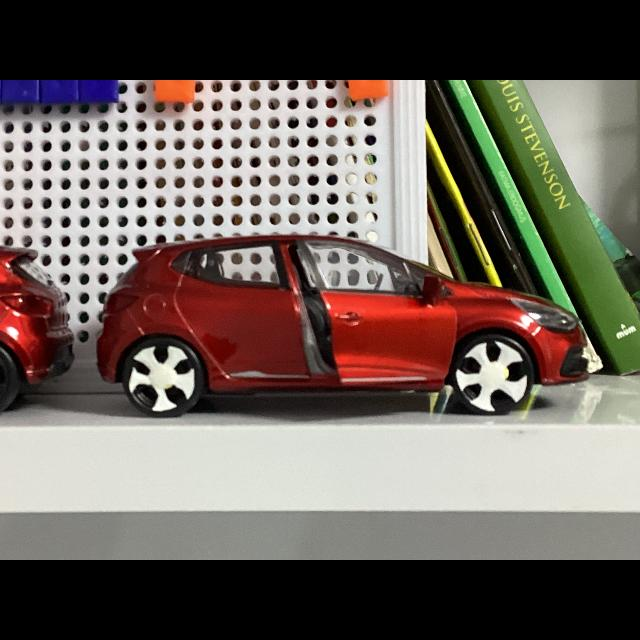Yanlis_Jant: (456, 340, 528, 414), (128, 344, 196, 414)
